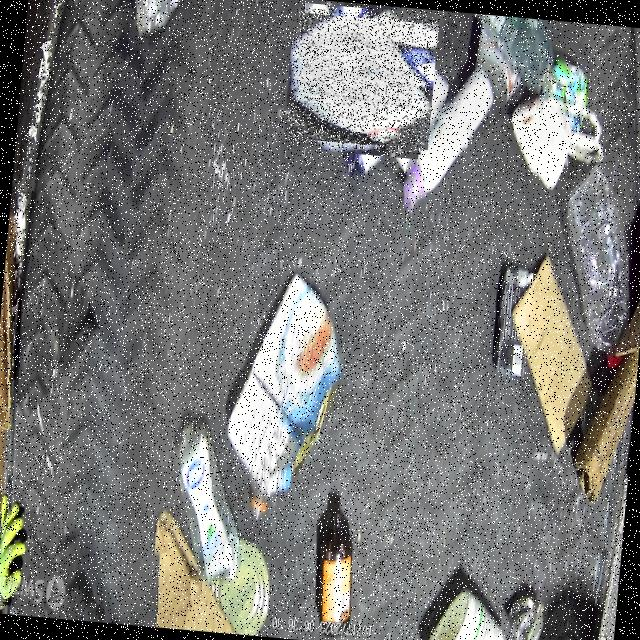milk-jug: (286, 6, 434, 153)
